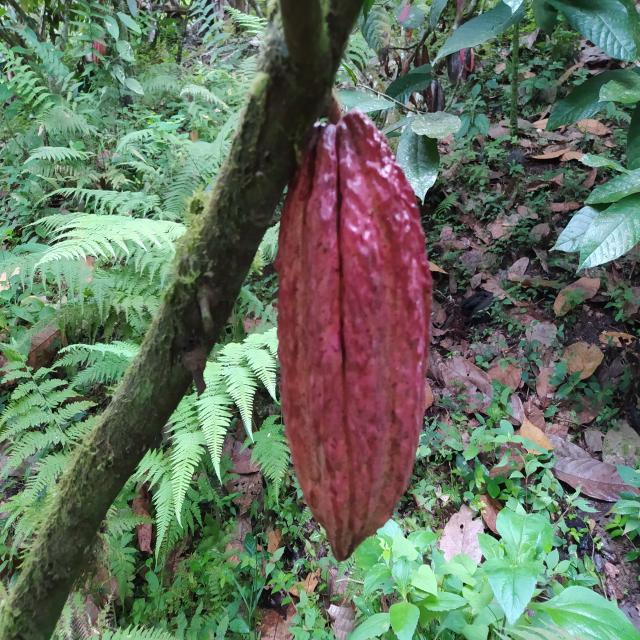Sana: (278, 90, 429, 559)
